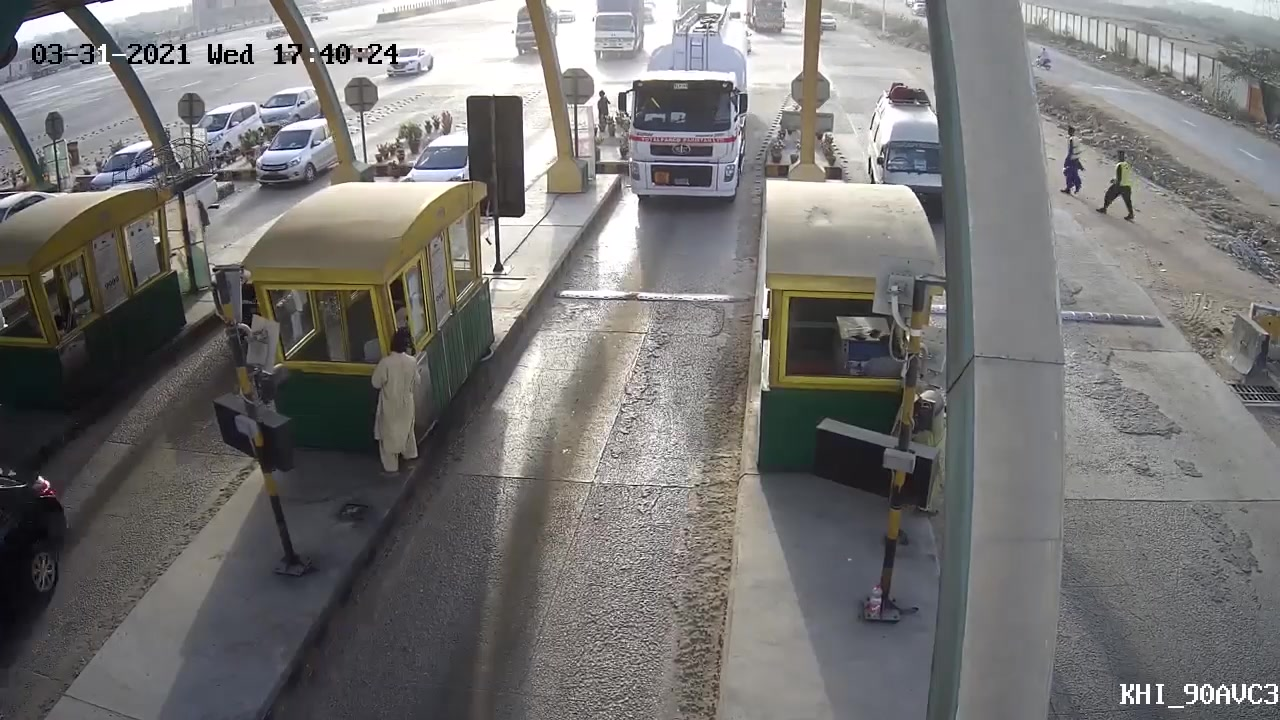F6: (626, 34, 748, 216)
